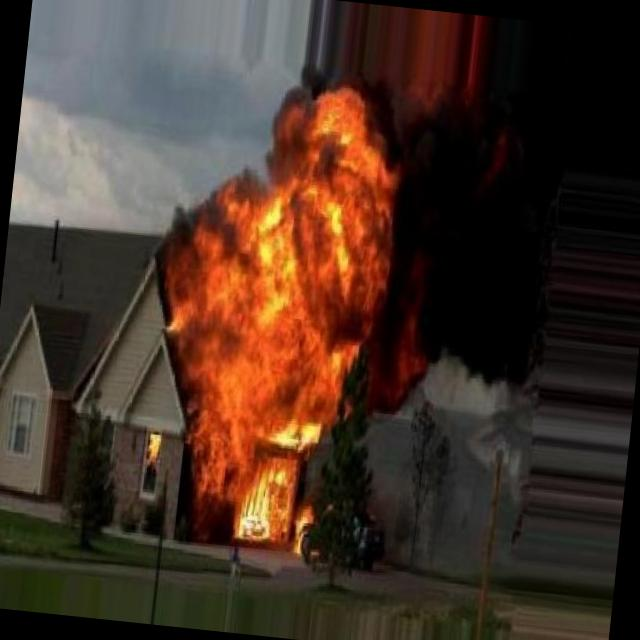Fire_Dangerous: (126, 62, 410, 557)
